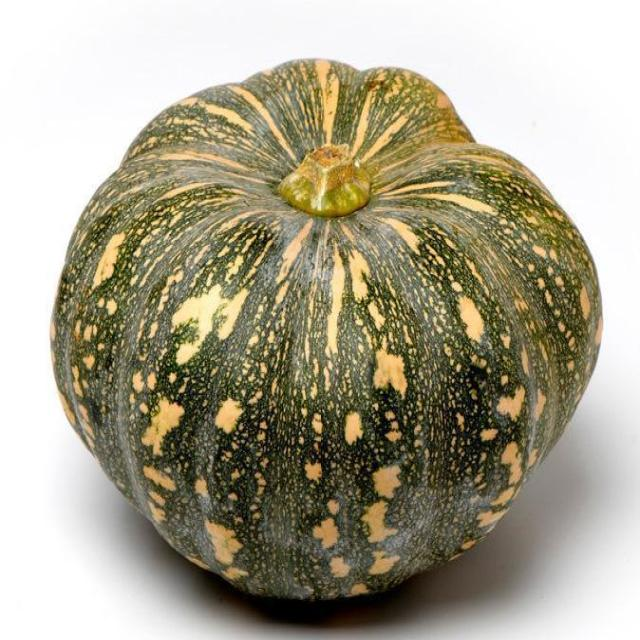organic: (48, 55, 606, 613)
